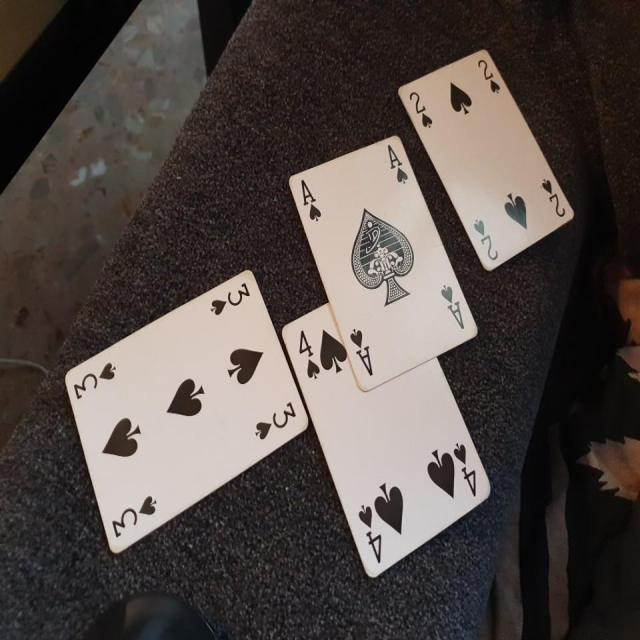2 Spades: (385, 49, 586, 284)
3 Spades: (62, 262, 310, 566)
4 Spades: (283, 294, 510, 582)
A Spades: (280, 131, 489, 385)
